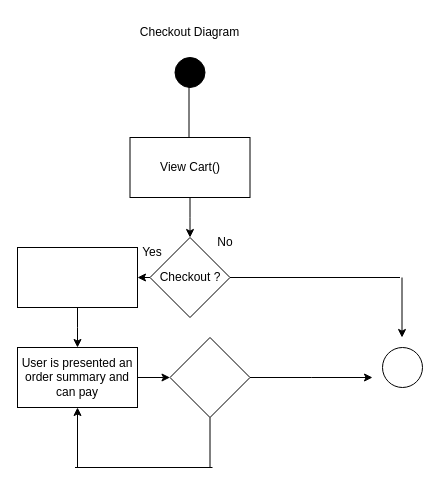
The diagram is 440 pixels wide and 493 high, and some of its shapes have lost their labels. The centre of each missing label's shape, as x and y in pixels:
"accessCheckout()" goes at [77,277].
"Payment()" goes at [209,377].
